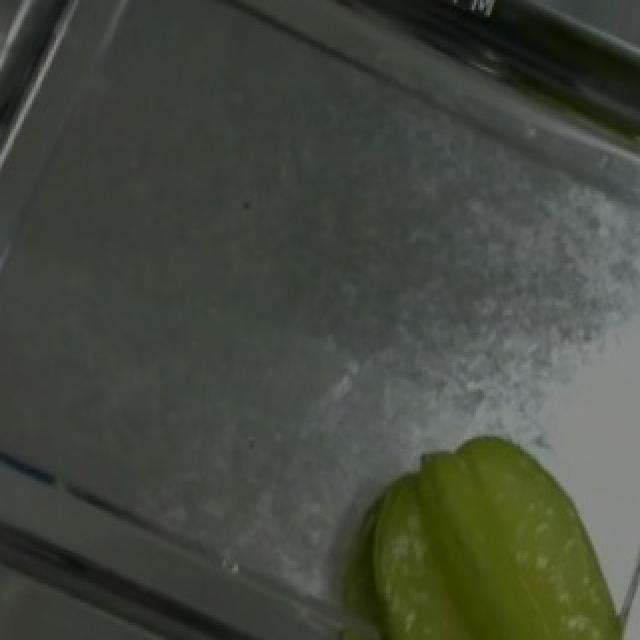fruit: (318, 399, 640, 640)
